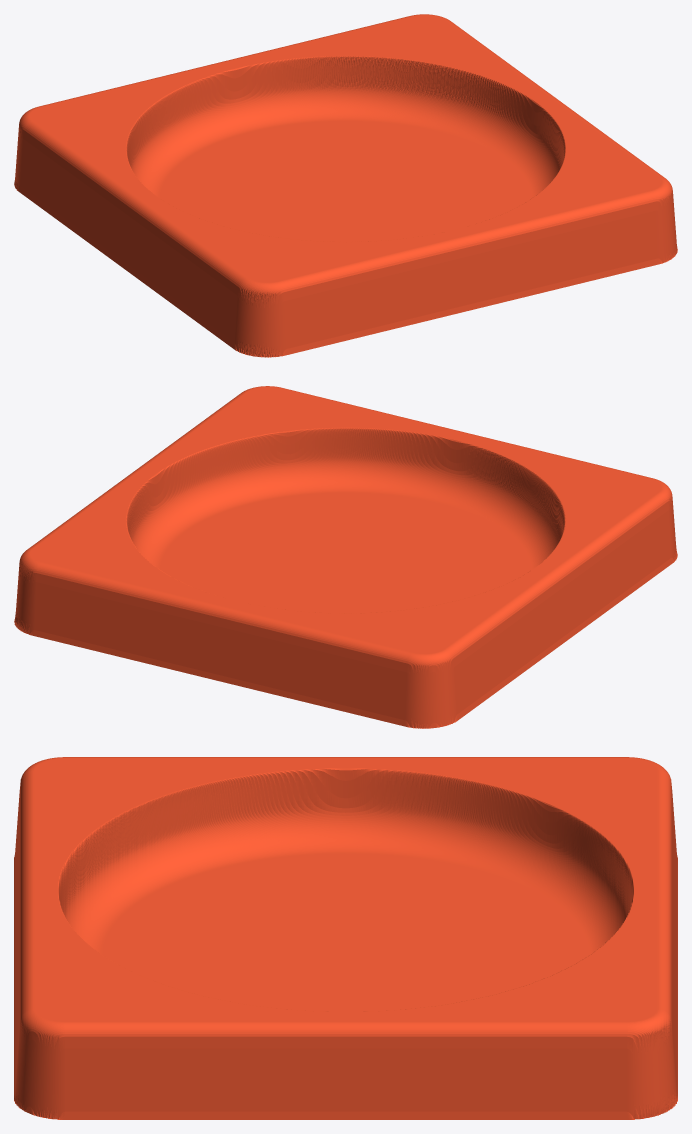
Rendered from mold.glb.
3 renders of one model, top to bottom at view 1: azimuth 30°, elevation 25°; view 2: azimuth 150°, elevation 25°; view 3: azimuth 270°, elevation 25°, orthographic. The views are drawn at different scales.
Visible parts, largest first — view 1: geometry_0; view 2: geometry_0; view 3: geometry_0.
Boxes of the visible parts, box(x1,y1,x2,y2) form: geometry_0: box(14, 14, 677, 357); geometry_0: box(14, 386, 677, 728); geometry_0: box(14, 757, 677, 1119).
Bounding box in the file's own units: 0.1178 × 0.0175 × 0.1178.
